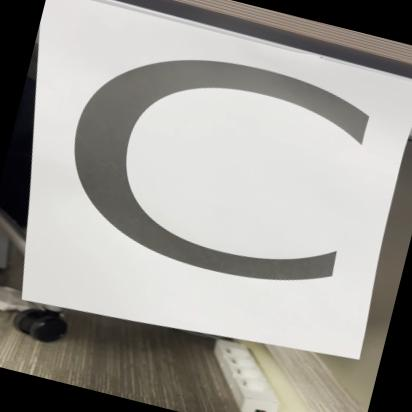seat: (0, 0, 412, 383)
